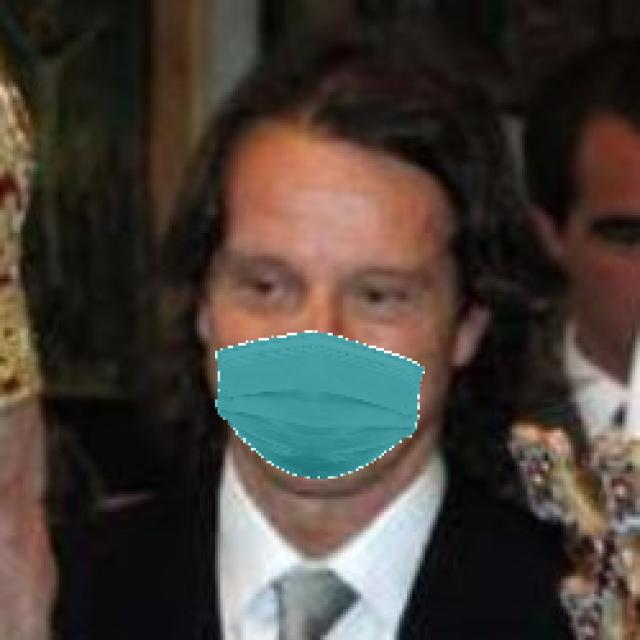mask: (199, 332, 450, 501)
